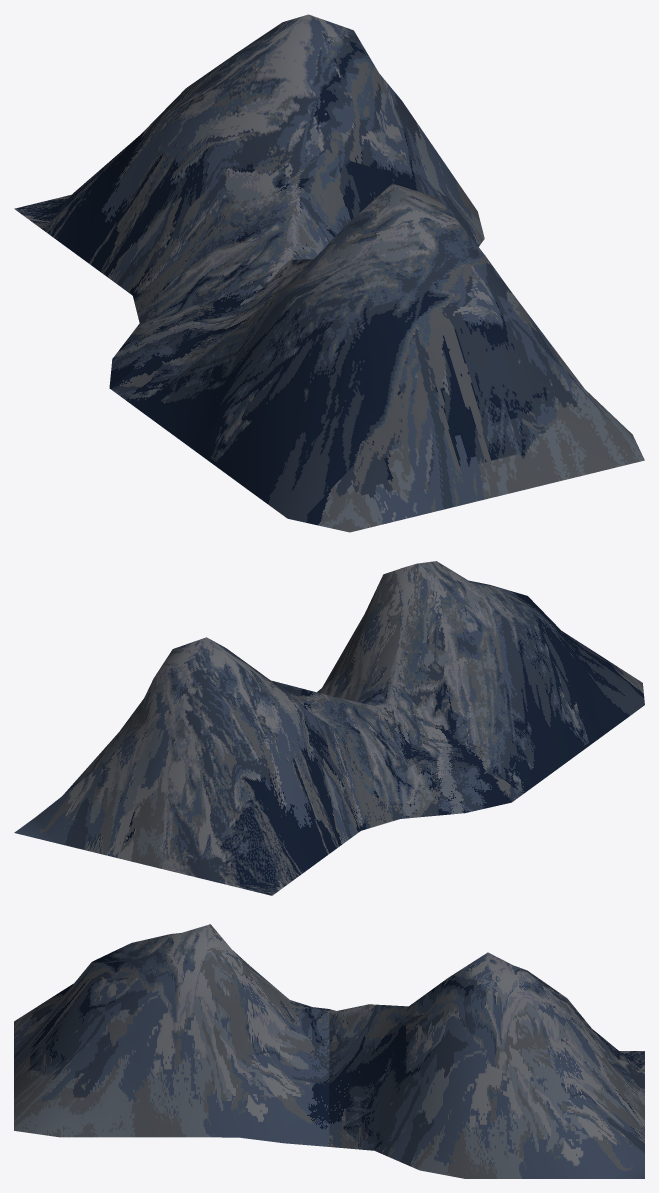
File: BgMD_Mid_Snow_B_low.FBX
The picture shows the model from 3 angles, top to bottom: view 1: azimuth 30°, elevation 25°; view 2: azimuth 150°, elevation 25°; view 3: azimuth 270°, elevation 25°; orthographic projection. The views are drawn at different scales.
Visible parts, largest first — view 1: BgMD_Mid_Snow_B_low; view 2: BgMD_Mid_Snow_B_low; view 3: BgMD_Mid_Snow_B_low.
Part boxes in pixels (x1,y1,x2,y2): BgMD_Mid_Snow_B_low: (14,14,644,532); BgMD_Mid_Snow_B_low: (14,561,644,895); BgMD_Mid_Snow_B_low: (14,924,644,1178).
Size of the model in its own units: 3403 by 1679 by 5355.
